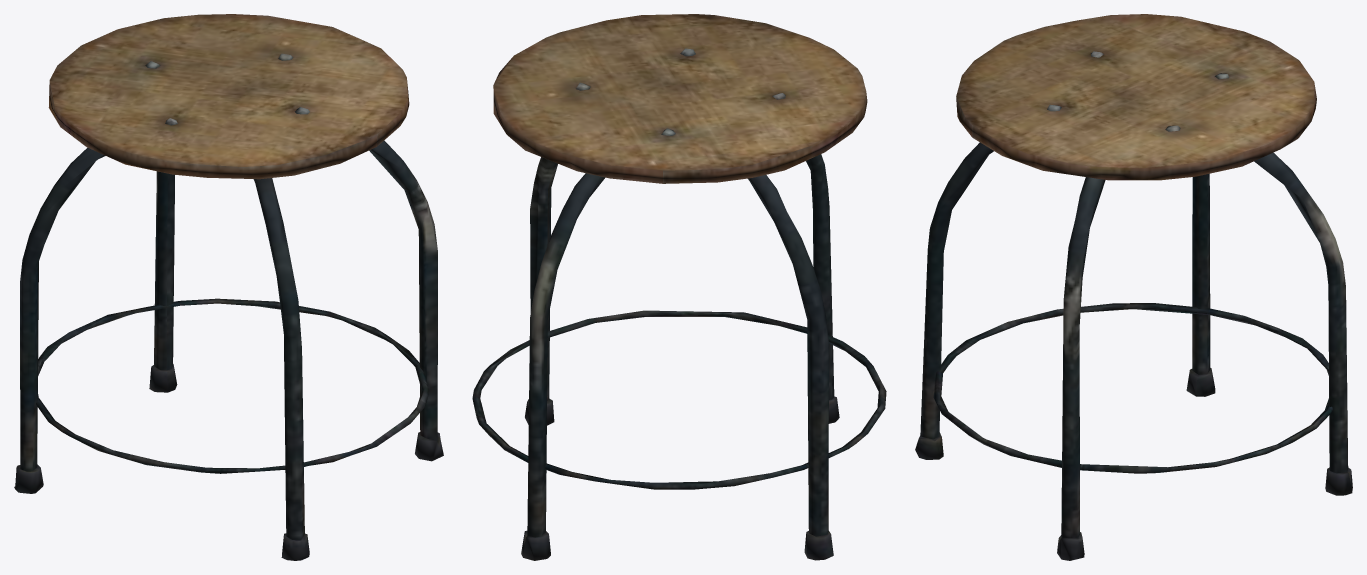
The model's file is metal_stool_02.glb.
The picture shows the model from 3 angles, left to right: view 1: azimuth 30°, elevation 25°; view 2: azimuth 150°, elevation 25°; view 3: azimuth 270°, elevation 25°; orthographic projection. The views are drawn at different scales.
Visible parts, largest first — view 1: metal_stool_02; view 2: metal_stool_02; view 3: metal_stool_02.
Boxes of the visible parts, x1=… form: metal_stool_02: x1=14, y1=14, x2=443, y2=560; metal_stool_02: x1=472, y1=14, x2=886, y2=560; metal_stool_02: x1=915, y1=14, x2=1352, y2=560.
Bounding box in the file's own units: 0.4475 × 0.4565 × 0.4712.
1 material, 1 textured.
